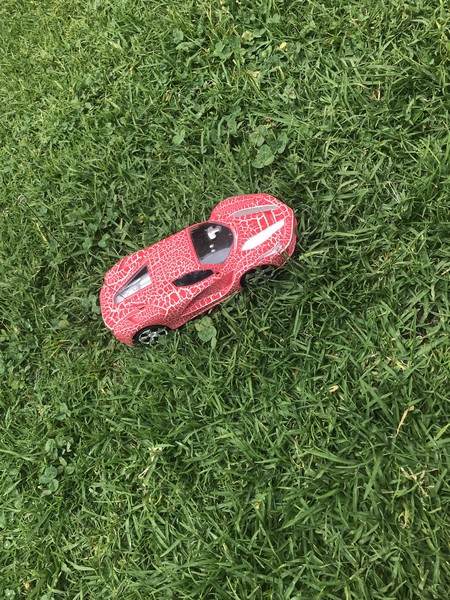RC: (97, 191, 299, 349)
